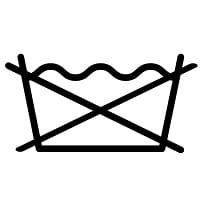do_not_wash: (4, 45, 199, 160)
